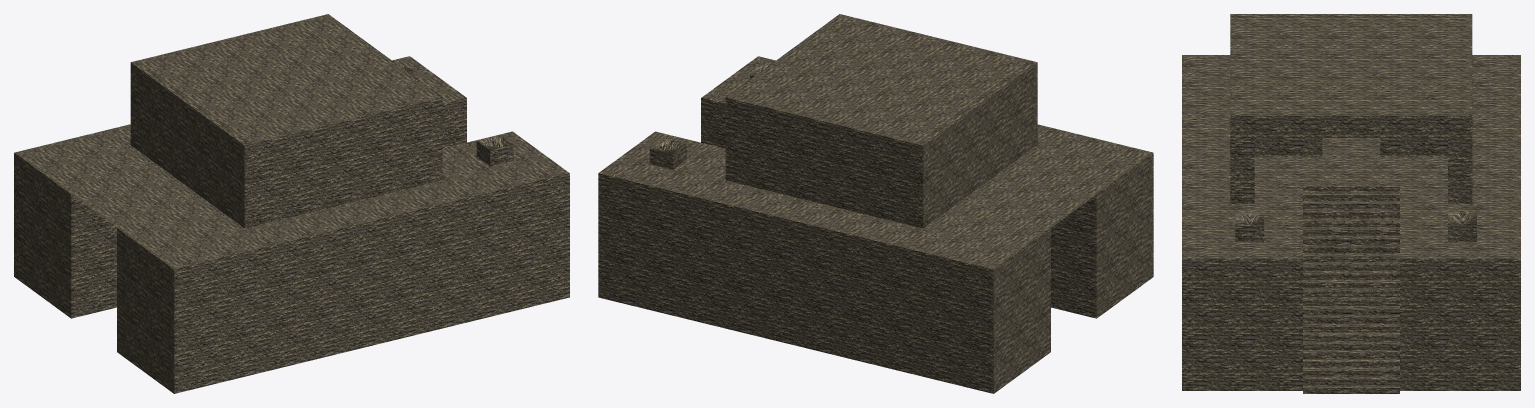
File: temple.FBX
3 renders of one model, left to right at view 1: azimuth 30°, elevation 25°; view 2: azimuth 150°, elevation 25°; view 3: azimuth 270°, elevation 25°, orthographic. The views are drawn at different scales.
Parts seen in each view (by area): view 1: temple; view 2: temple; view 3: temple.
Boxes of the visible parts, x1,y1,x2,y2 form: temple: [14, 14, 569, 393]; temple: [598, 14, 1153, 393]; temple: [1182, 14, 1520, 393].
Size of the model in its own units: 50.76 by 35.02 by 25.19.
